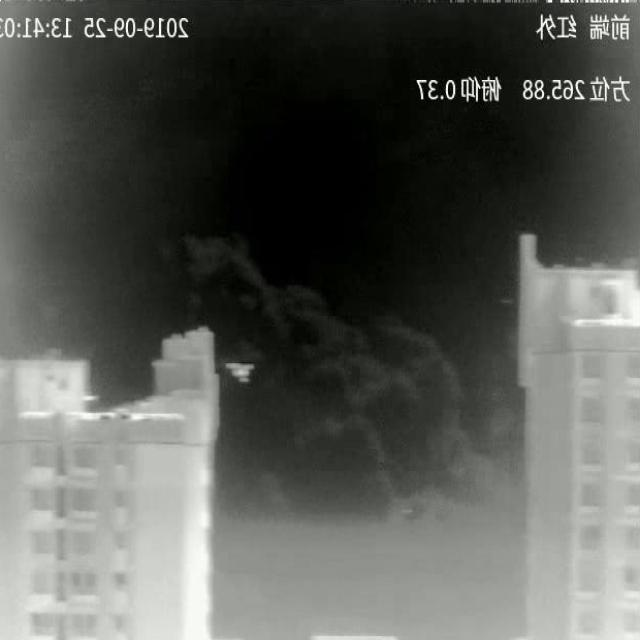drone: (226, 363, 253, 383)
